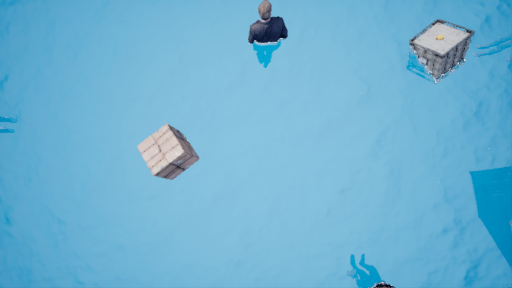person: (249, 2, 290, 72)
